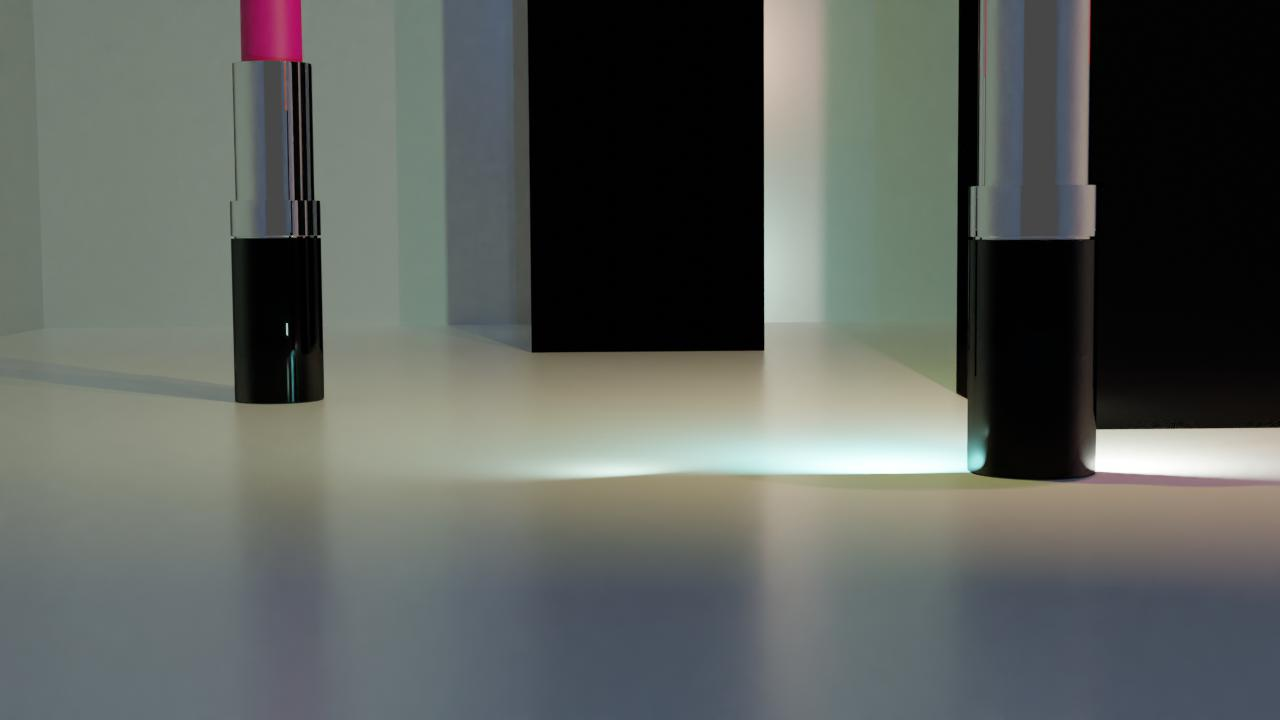CLASSIFIER_NAME: (964, 0, 1103, 480), (228, 0, 327, 404)
